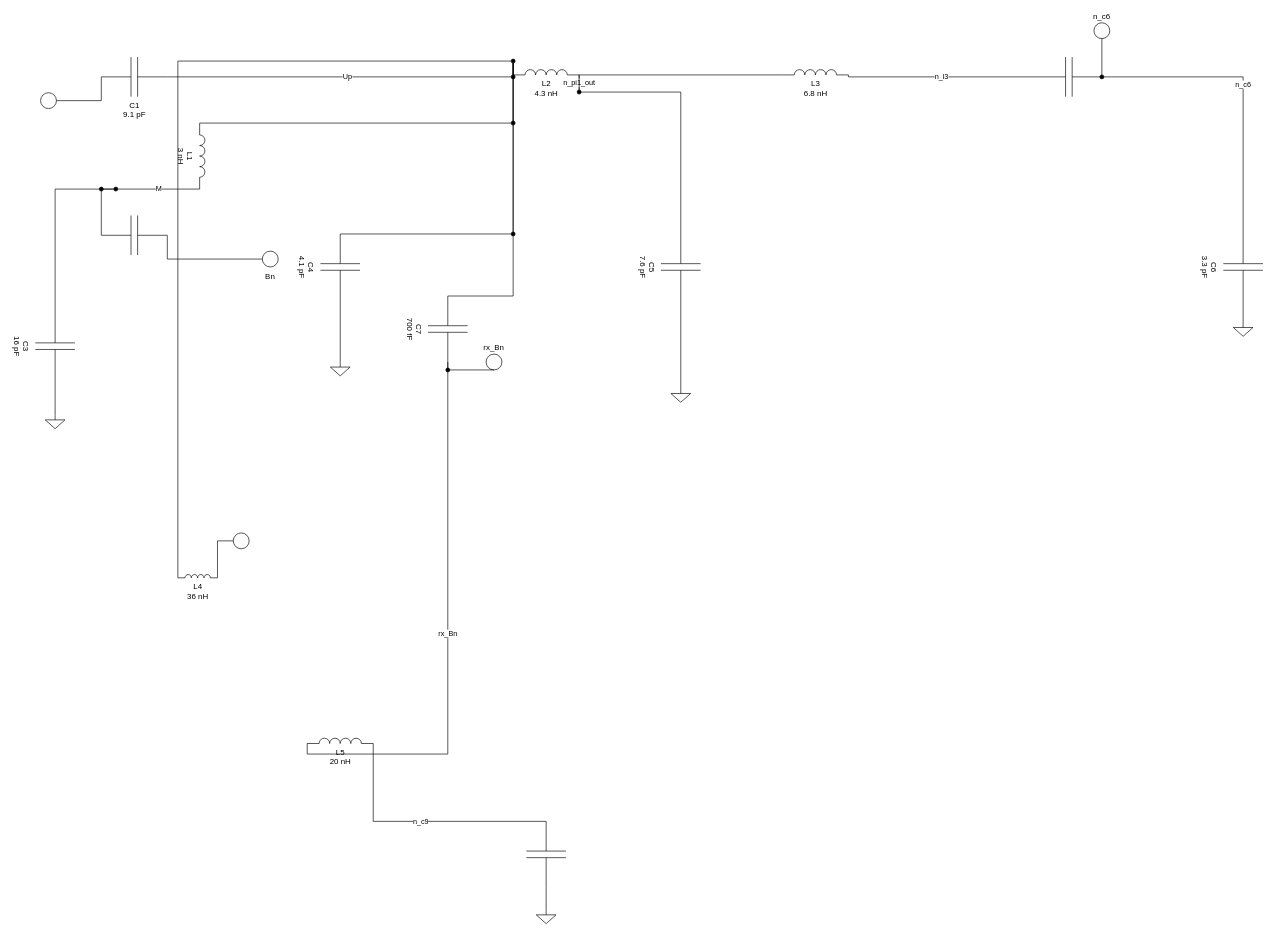
Image size: 1274x935. Some labels were removed from this diagram. Each missing label, with the box of its shape:
Bp: (40, 92, 56, 109)
C2 47 pF: (101, 215, 167, 255)
C8 75 pF: (1035, 56, 1102, 97)
C9 75 pF: (526, 821, 566, 887)
rx_Bp: (233, 532, 249, 549)
